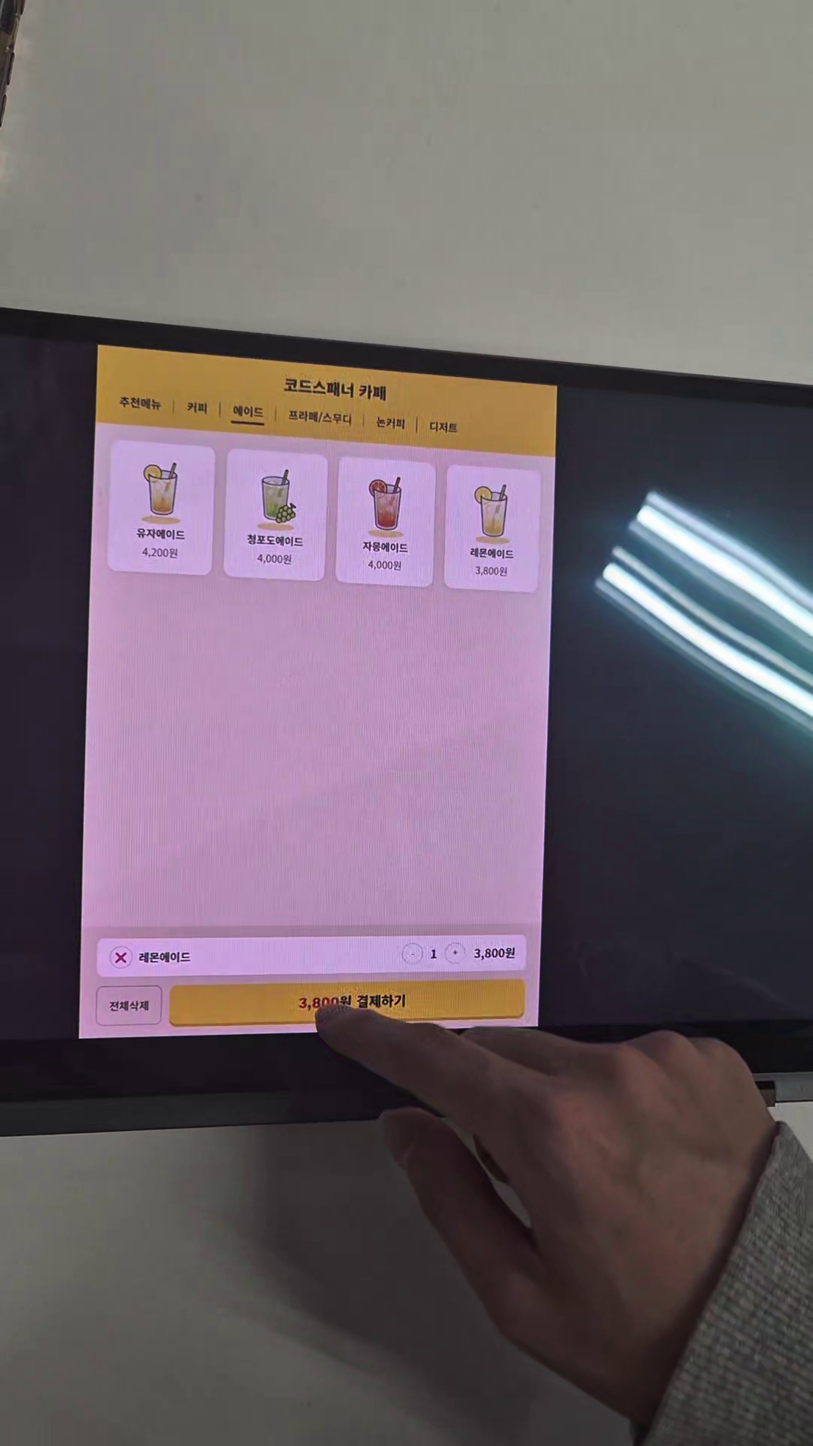action_button: (169, 978, 526, 1026), (97, 986, 162, 1024)
cart_item: (96, 935, 527, 978)
category_tab: (287, 409, 353, 427), (118, 395, 163, 412), (232, 403, 264, 419), (375, 415, 406, 430), (429, 420, 459, 435), (187, 401, 209, 416)
menu_back: (107, 440, 217, 577), (223, 447, 329, 582), (334, 456, 437, 588), (443, 464, 542, 594)
menu_name: (245, 532, 304, 549), (135, 526, 186, 542), (361, 539, 409, 555), (469, 546, 516, 561)
menu_price: (140, 545, 179, 560), (255, 552, 292, 567), (366, 558, 402, 573), (474, 564, 509, 578)
